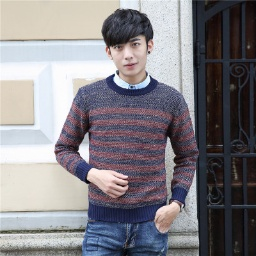face: (100, 8, 154, 76)
